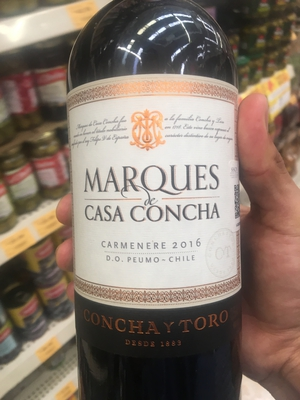marques de casa concha carmenere: (59, 17, 245, 400)
